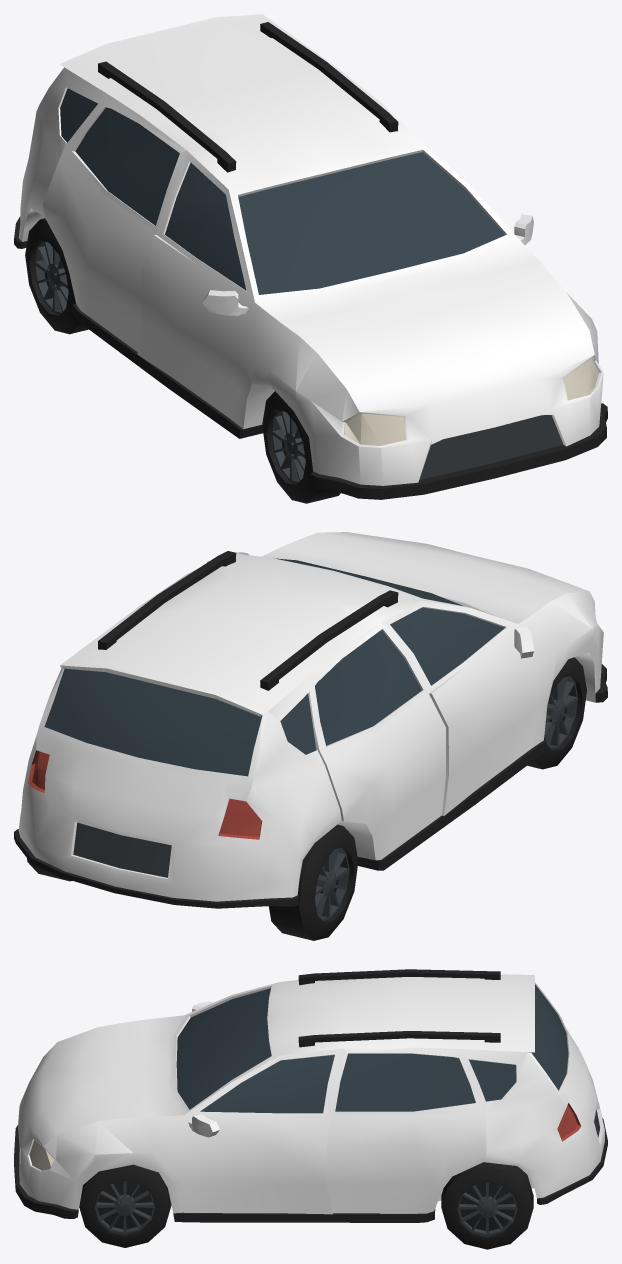
Rendered from car-suv.glb.
3 renders of one model, top to bottom at view 1: azimuth 30°, elevation 25°; view 2: azimuth 150°, elevation 25°; view 3: azimuth 270°, elevation 25°, orthographic. The views are drawn at different scales.
Parts seen in each view (by area): view 1: lod0; view 2: lod0; view 3: lod0.
Boxes of the visible parts, box(x1,y1,x2,y2) form: lod0: box(14, 14, 607, 503); lod0: box(14, 532, 607, 940); lod0: box(14, 969, 607, 1249).
Size of what is drawn, in the model's own units: 2.38 by 1.72 by 4.75.
